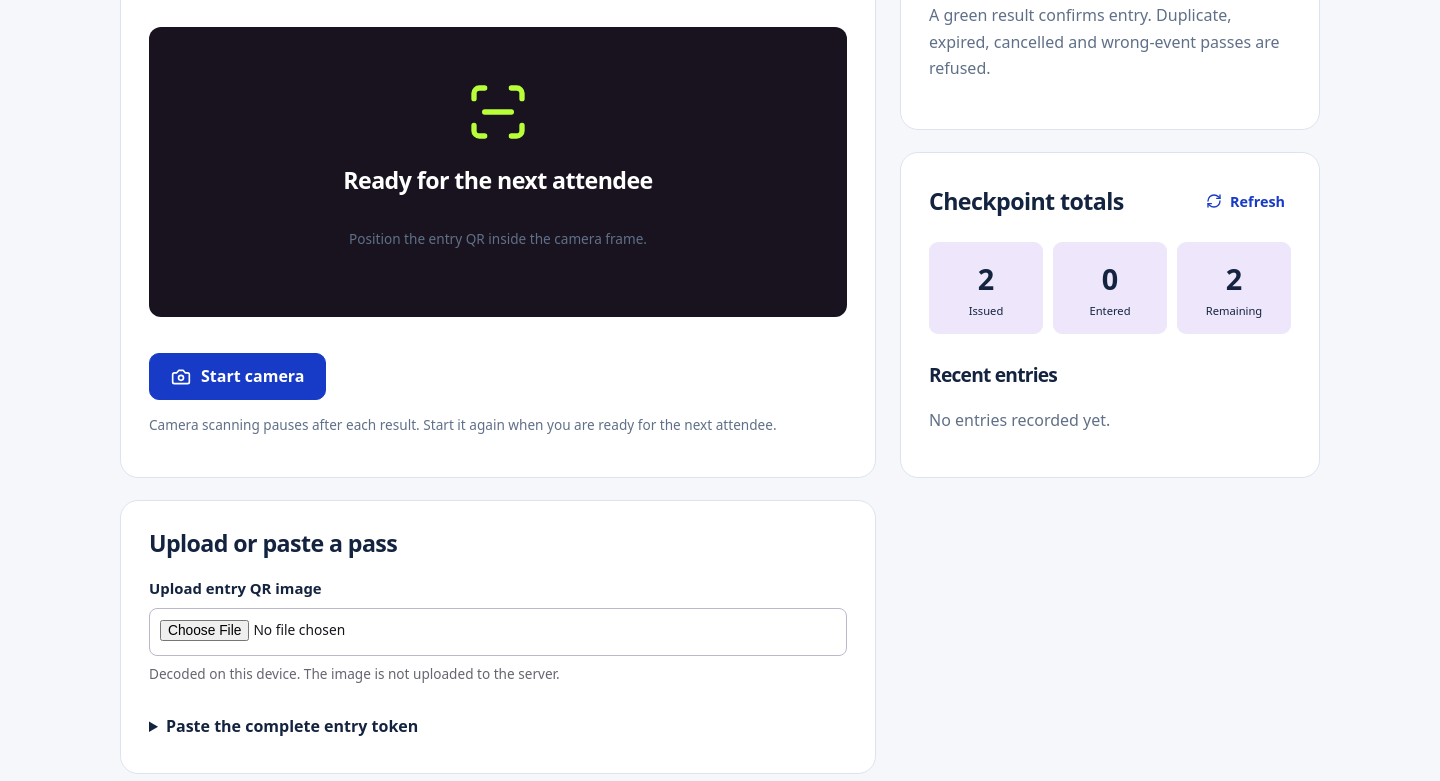
denied camera access explains image fallback and leaves verification untouched
(page scrolled)
Click the button "Start camera".
click(238, 376)  # box x1=149 y1=353 x2=326 y2=400
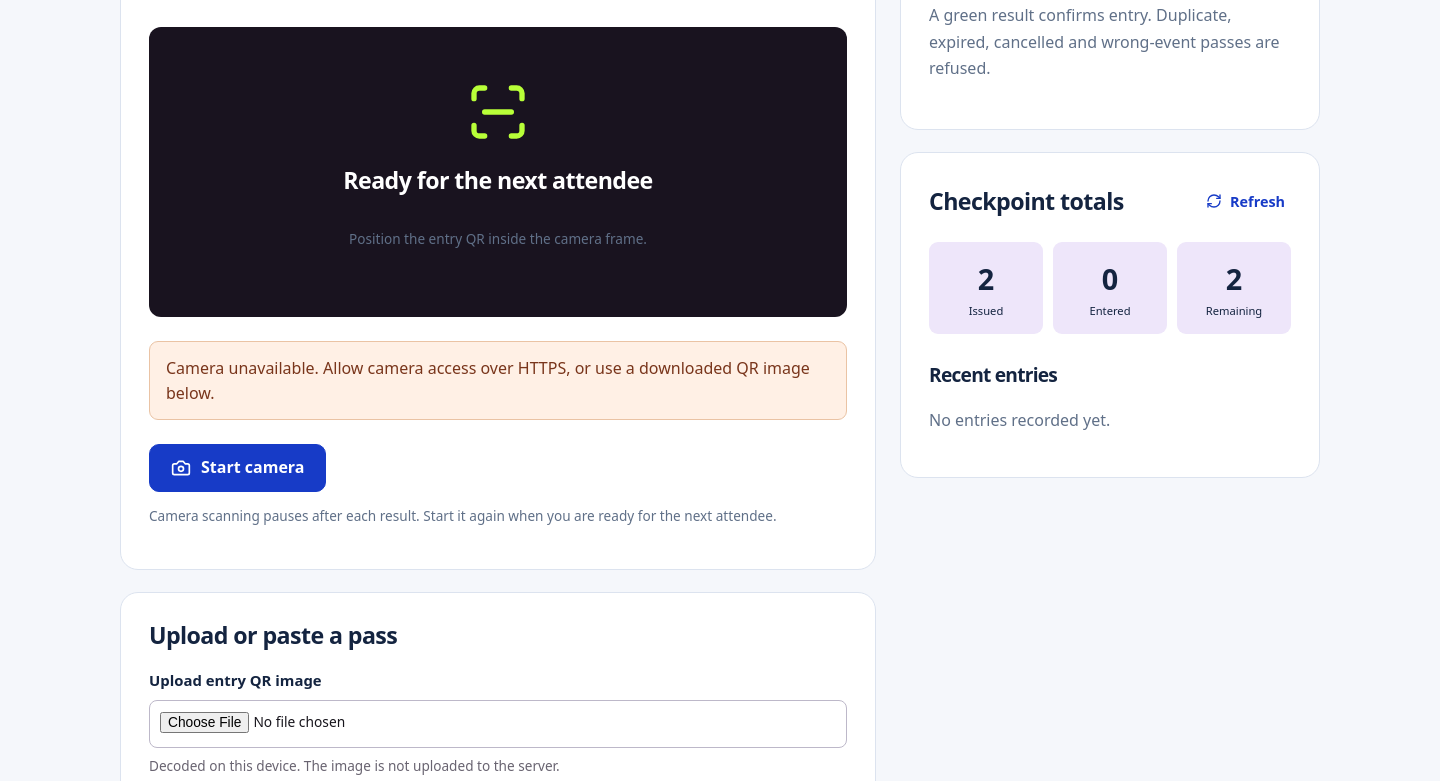
Expected: the text "Start camera" is shown, x1=149 y1=444 x2=326 y2=492
Now the text "Camera unavailable" is shown, box x1=166 y1=357 x2=810 y2=404
